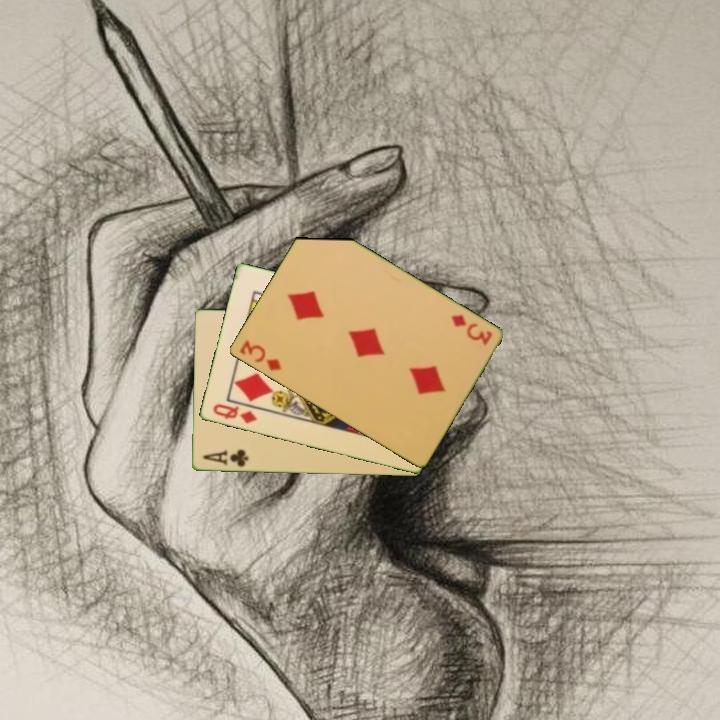3d: (236, 336, 284, 374), (447, 311, 495, 348)
Ac: (199, 446, 251, 470)
Qd: (209, 400, 260, 427)
